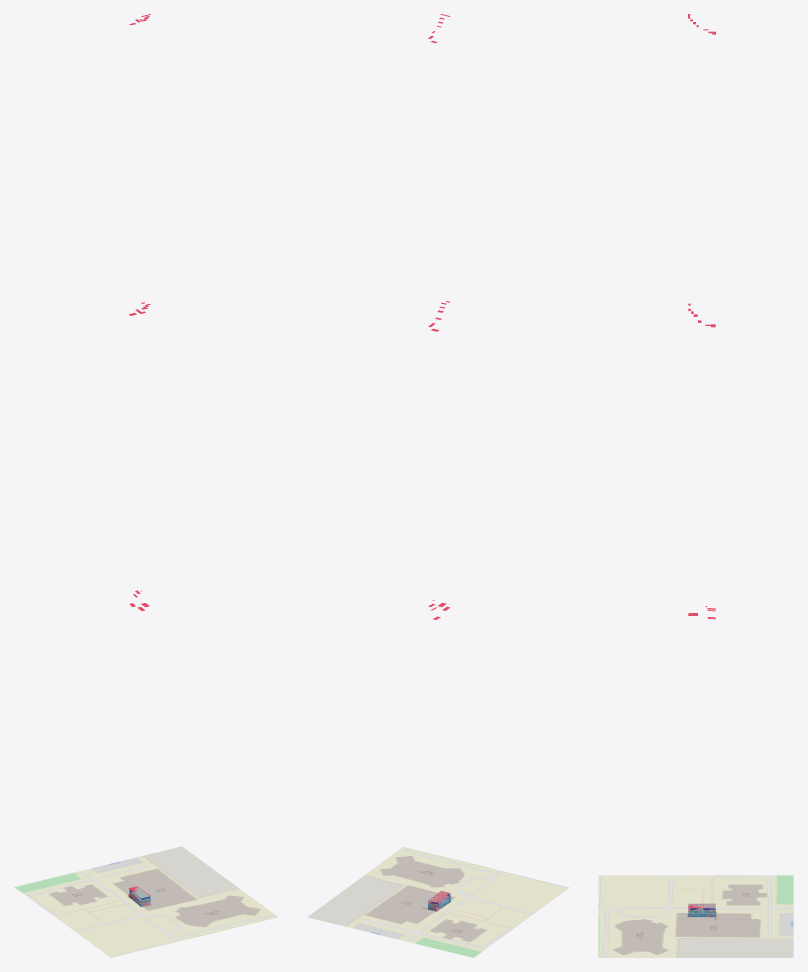
Rendered from mymodel.gltf.
3 views of the same model, side by side, from view 1: azimuth 30°, elevation 25°; view 2: azimuth 150°, elevation 25°; view 3: azimuth 270°, elevation 25° (orthographic).
Visible parts, largest first — view 1: Flat Plane; view 2: Flat Plane; view 3: Flat Plane.
Boxes of the visible parts, x1,y1,x2,y2 form: Flat Plane: (14,846,277,957); Flat Plane: (307,847,569,957); Flat Plane: (598,875,793,957).
Size of the model in its own units: 181 by 922 by 181.
Materials: 12 (2 with a texture image).
